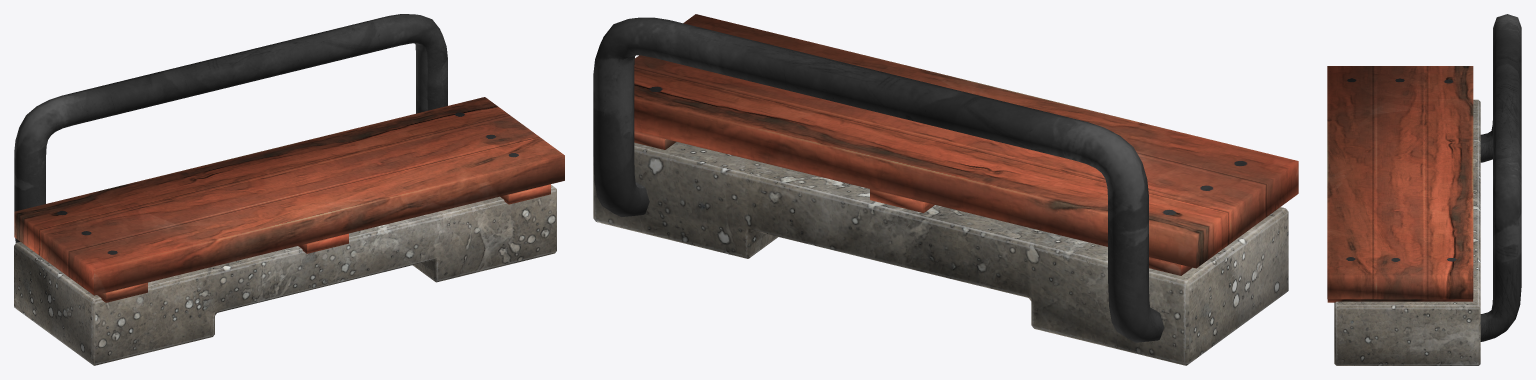
The model's file is tombolaso-bench.glb.
The picture shows the model from 3 angles, left to right: view 1: azimuth 30°, elevation 25°; view 2: azimuth 150°, elevation 25°; view 3: azimuth 270°, elevation 25°; orthographic projection. The views are drawn at different scales.
Parts seen in each view (by area): view 1: TARGET_LOW.008; view 2: TARGET_LOW.008; view 3: TARGET_LOW.008.
Boxes of the visible parts, bbox=[...] form: TARGET_LOW.008: bbox=[14, 14, 564, 365]; TARGET_LOW.008: bbox=[593, 14, 1298, 365]; TARGET_LOW.008: bbox=[1327, 14, 1521, 365].
Size of the model in its own units: 512 by 192 by 200.
Materials: 1 (1 with a texture image).
